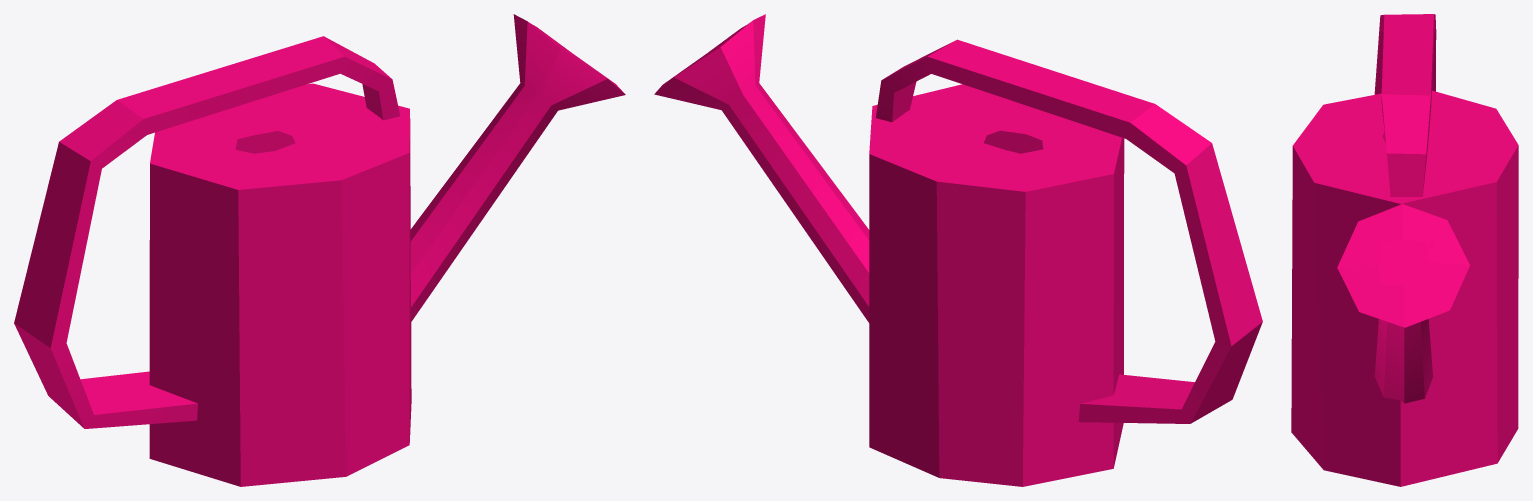
Rendered from SM_SS_Watering_Can.fbx.
3 views of the same model, side by side, from view 1: azimuth 30°, elevation 25°; view 2: azimuth 150°, elevation 25°; view 3: azimuth 270°, elevation 25° (orthographic). The views are drawn at different scales.
Parts seen in each view (by area): view 1: SM_SS_Watering_Can; view 2: SM_SS_Watering_Can; view 3: SM_SS_Watering_Can.
Boxes of the visible parts, <box> form: SM_SS_Watering_Can: <box>14,14,625,486</box>; SM_SS_Watering_Can: <box>654,14,1262,486</box>; SM_SS_Watering_Can: <box>1291,14,1518,486</box>.
Bounding box in the file's own units: 23.24 × 8.13 × 14.24.
